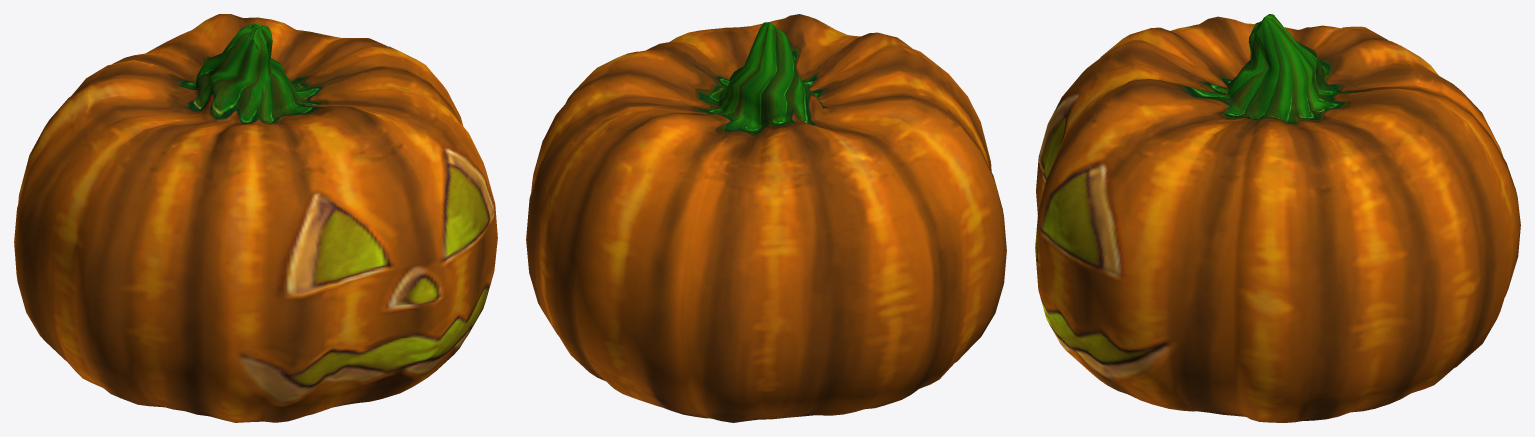
File: Pumpkin 1.FBX
3 views of the same model, side by side, from view 1: azimuth 30°, elevation 25°; view 2: azimuth 150°, elevation 25°; view 3: azimuth 270°, elevation 25° (orthographic).
Parts seen in each view (by area): view 1: Sphere03; view 2: Sphere03; view 3: Sphere03.
Part boxes in pixels (left/top/right/bottom): Sphere03: left=14, top=14, right=497, bottom=422; Sphere03: left=526, top=14, right=1006, bottom=422; Sphere03: left=1035, top=14, right=1520, bottom=422.
Bounding box in the file's own units: 0.4704 × 0.382 × 0.4696.
Materials: 1 (1 with a texture image).
